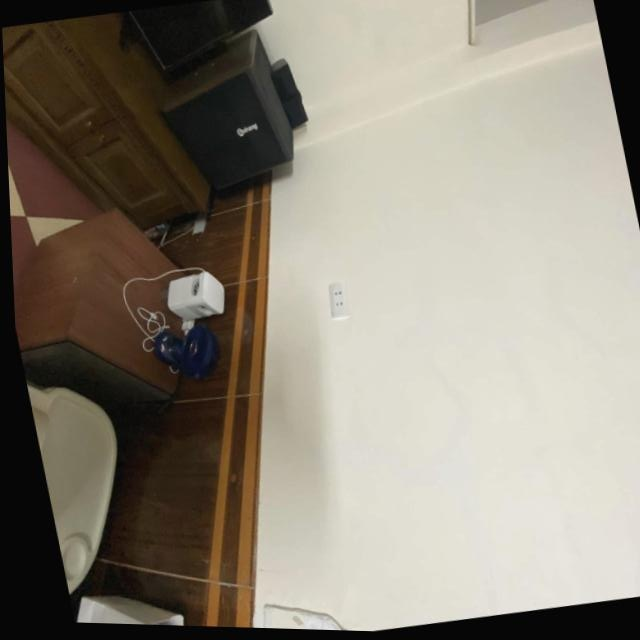outlet: (325, 280, 353, 320)
